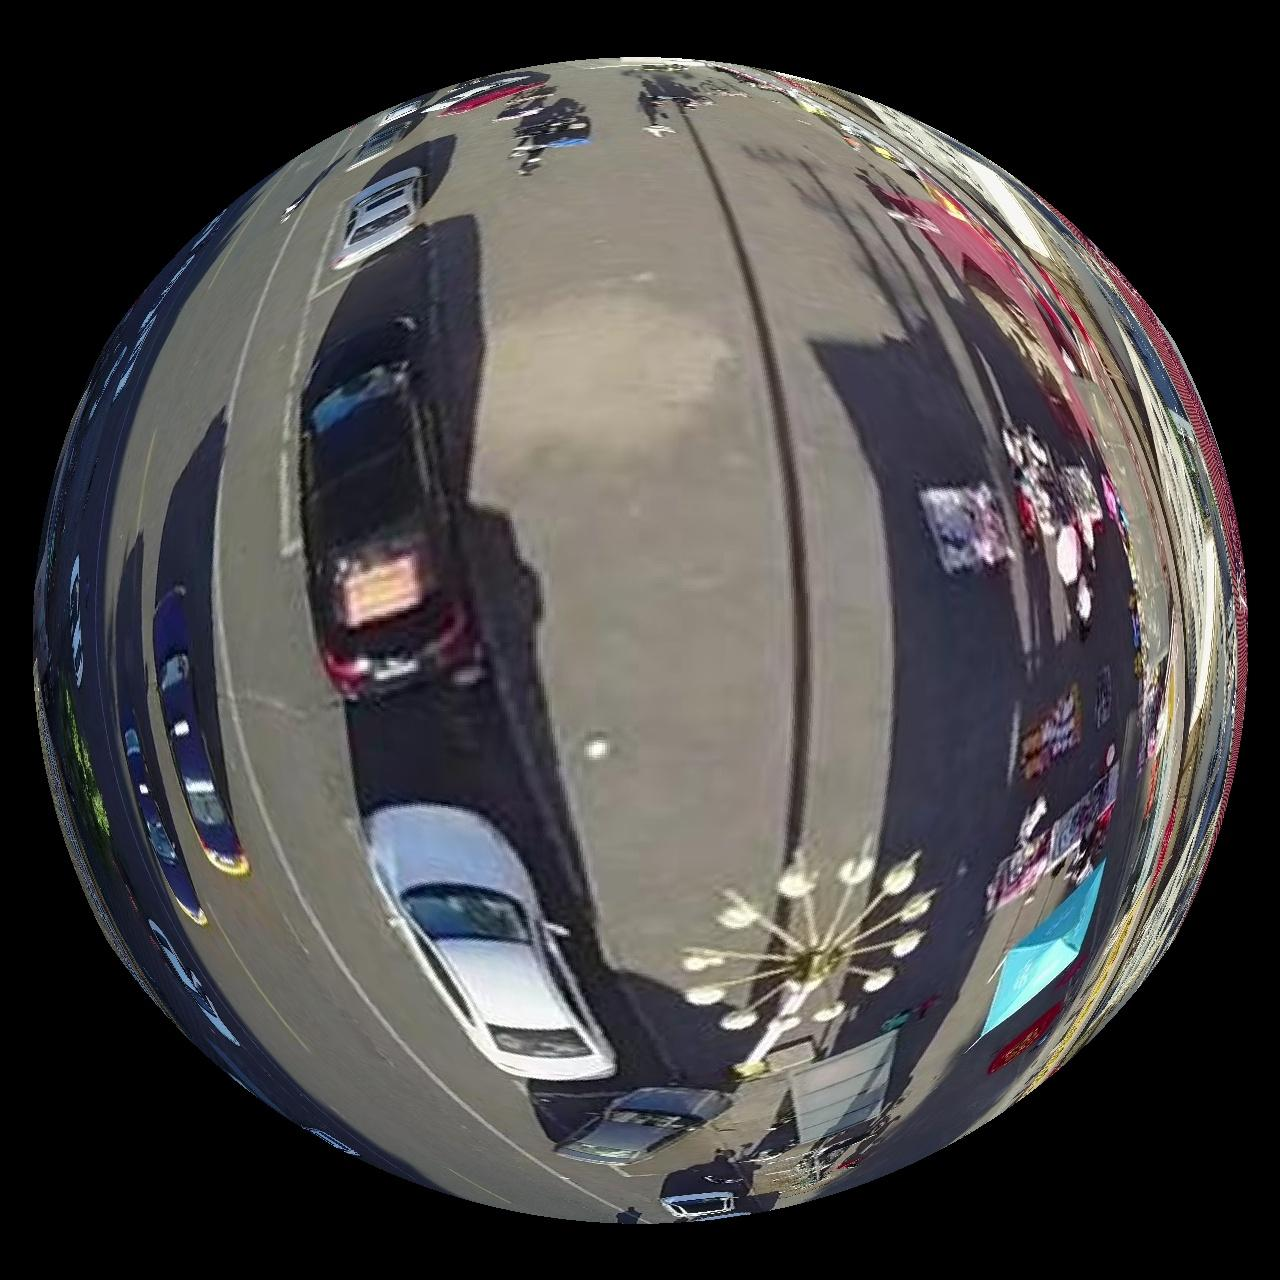cars: (365, 805, 617, 1083), (302, 313, 481, 701), (152, 584, 248, 877), (558, 1089, 731, 1167), (331, 166, 422, 268)
